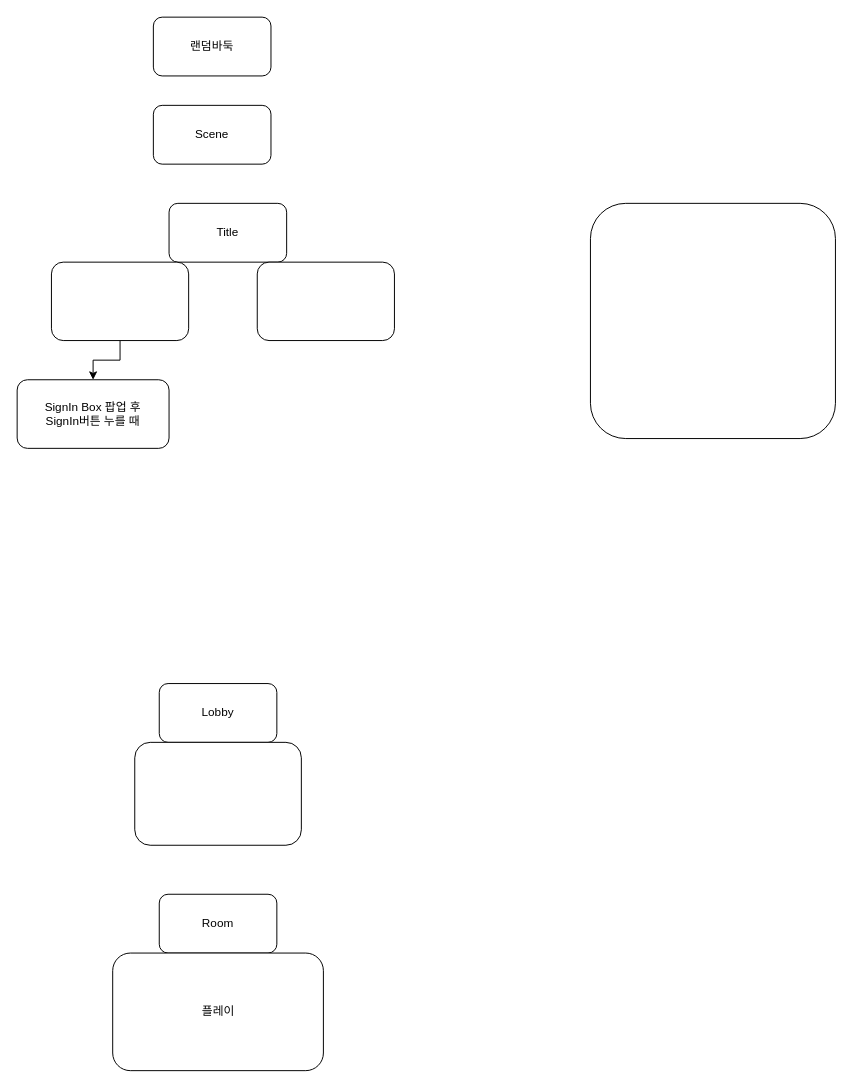
Some shapes in this 853 by 1088 pixel diagram are drawn without their labels. Here are the shapes that lost their labels. From the top down, the centre of each, then its label:
At pixel 119 301: "회원가입 SignIn버튼 누를 때".
At pixel 325 301: "로그인 인풋필드에 아이디,비번 입력후 Enter 혹은 로그인 버튼 클릭할 때".
At pixel 712 320: "UserData ID Password 기력 승, 패".
At pixel 217 793: "대기자명단 방만들기, 능력강화 채팅".
